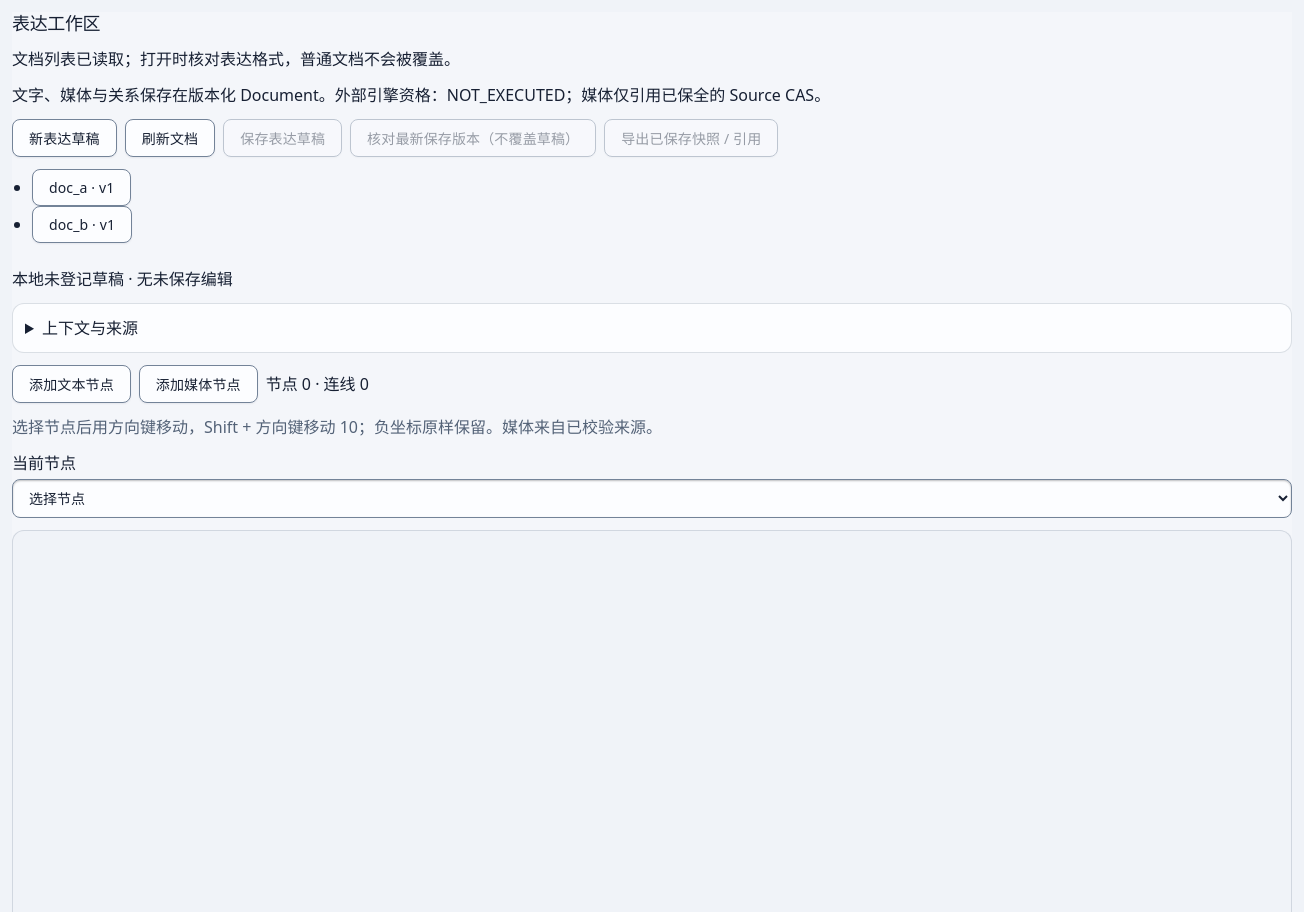
Test case: preserves foreign document attrs and inert capability metadata on save
Click the button "doc_a · v1".
click(82, 187)  # box [32,168,132,206]
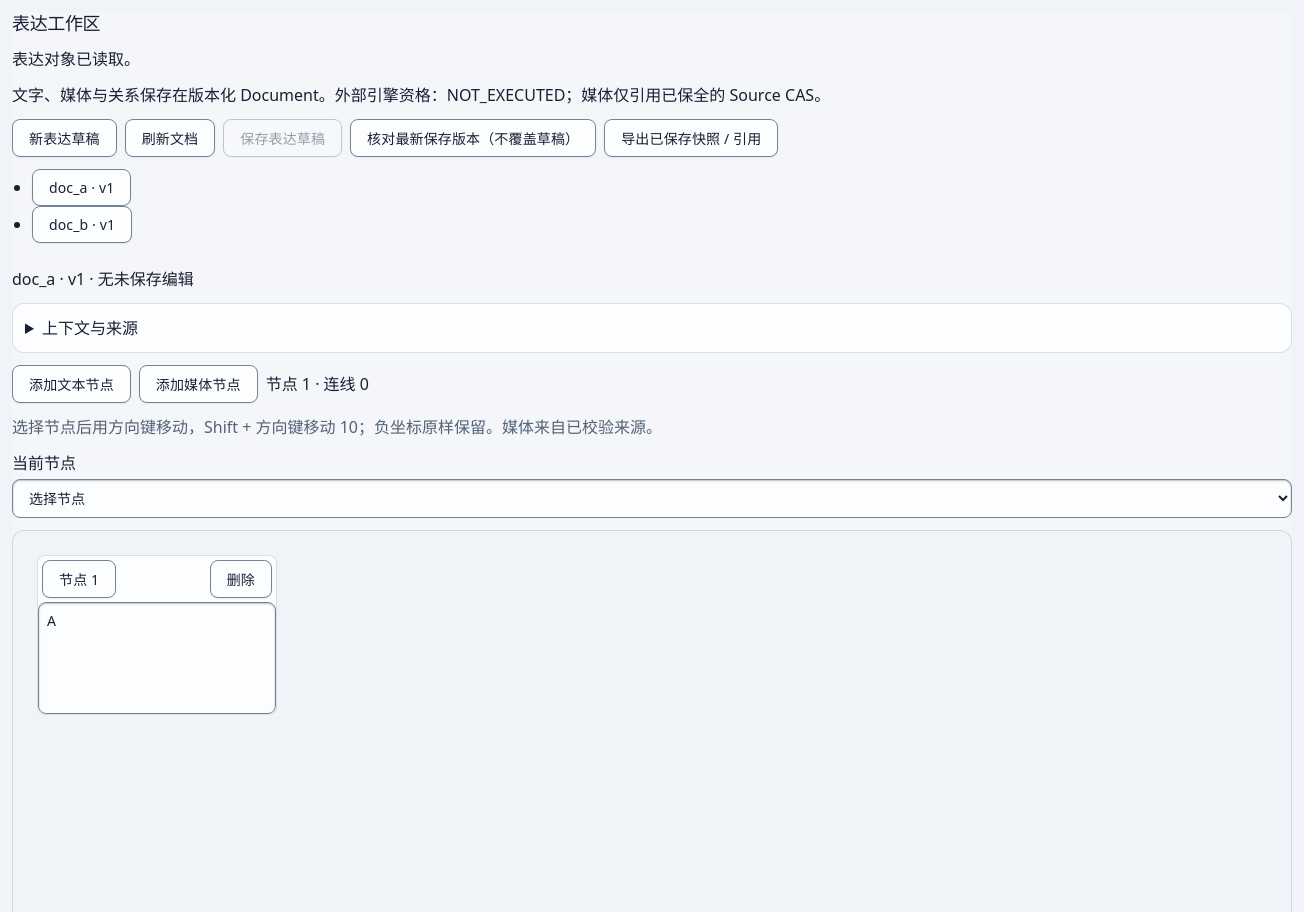
Expected: the text box named "节点文字 1" holds "A"
Replace the text in the text box named "节点文字 1" with "CHANGED" at x=157, y=658, box [38,602,276,714]
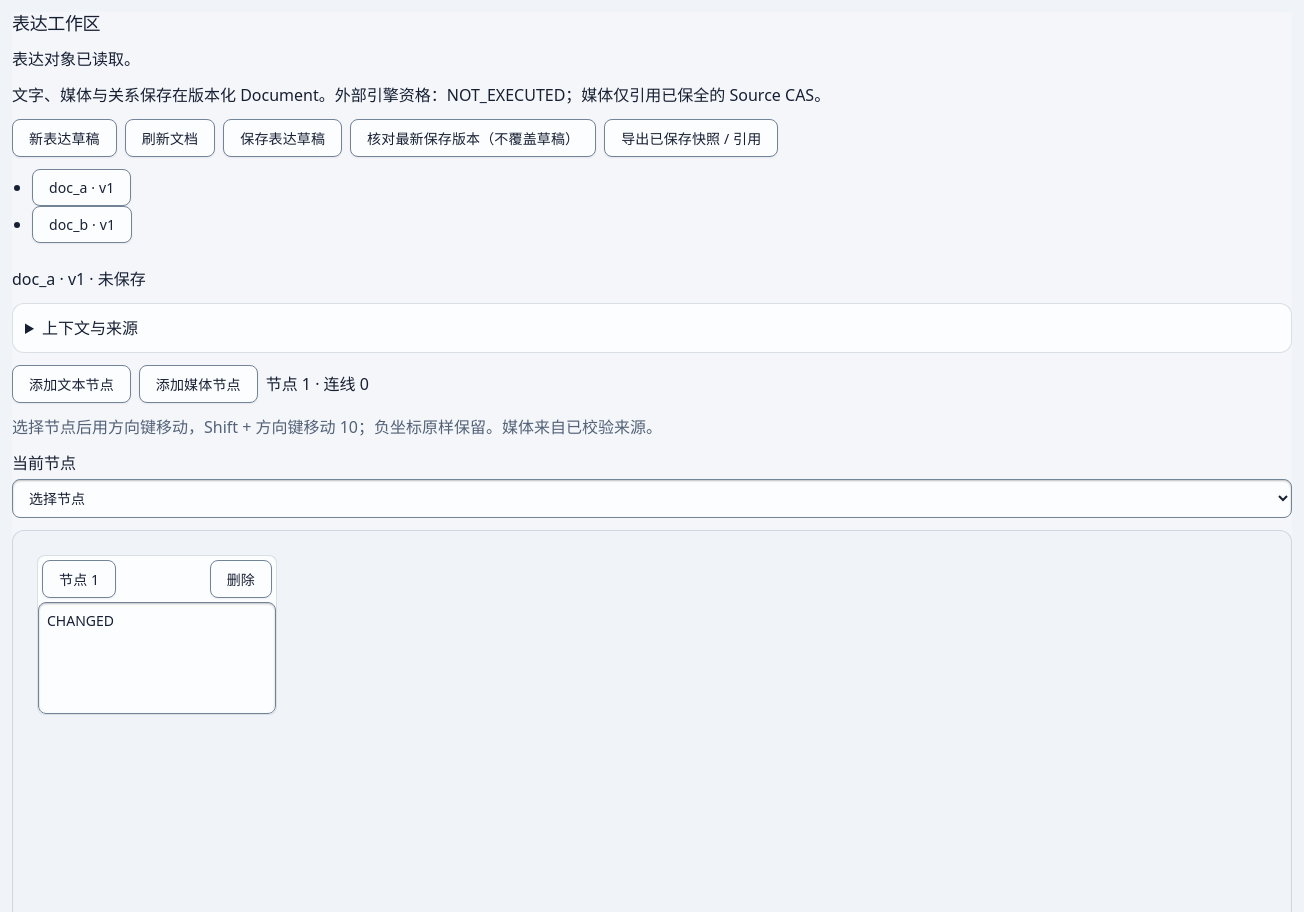
Click the button "保存表达草稿".
click(283, 138)  # box [223,118,342,156]
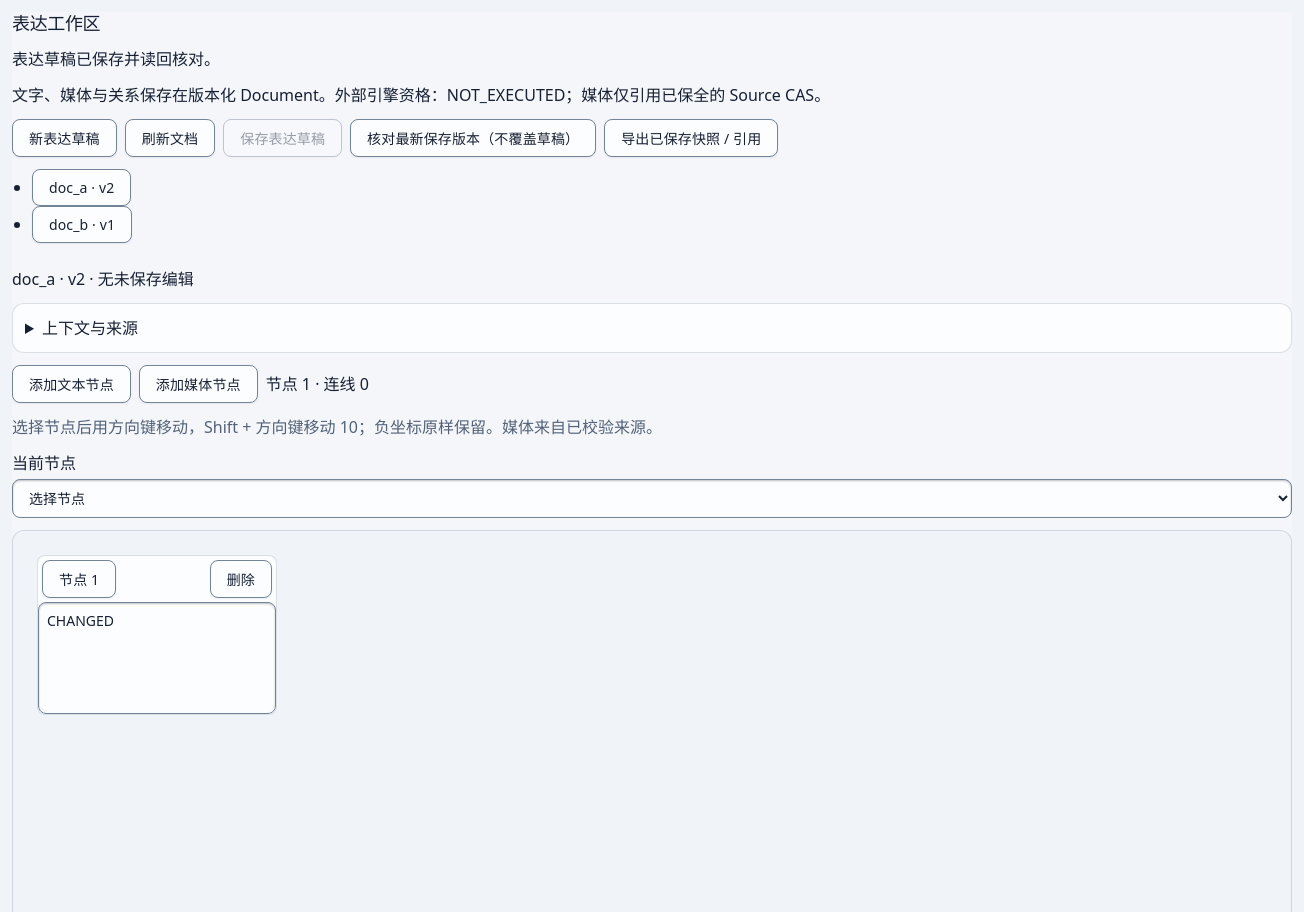
Expected: the text "表达草稿已保存并读回核对。" is shown, [12,48,220,70]
